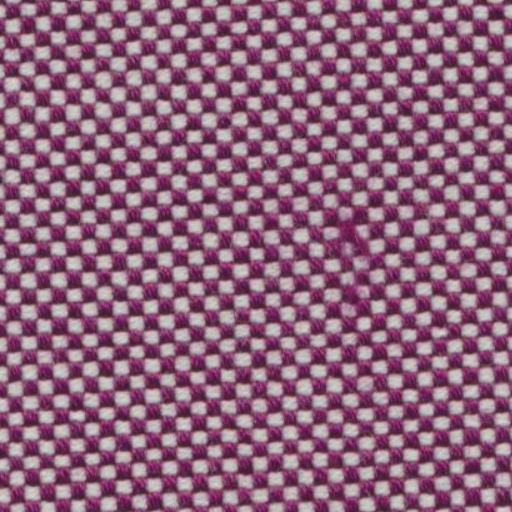DuanSha: (321, 202, 385, 278)
